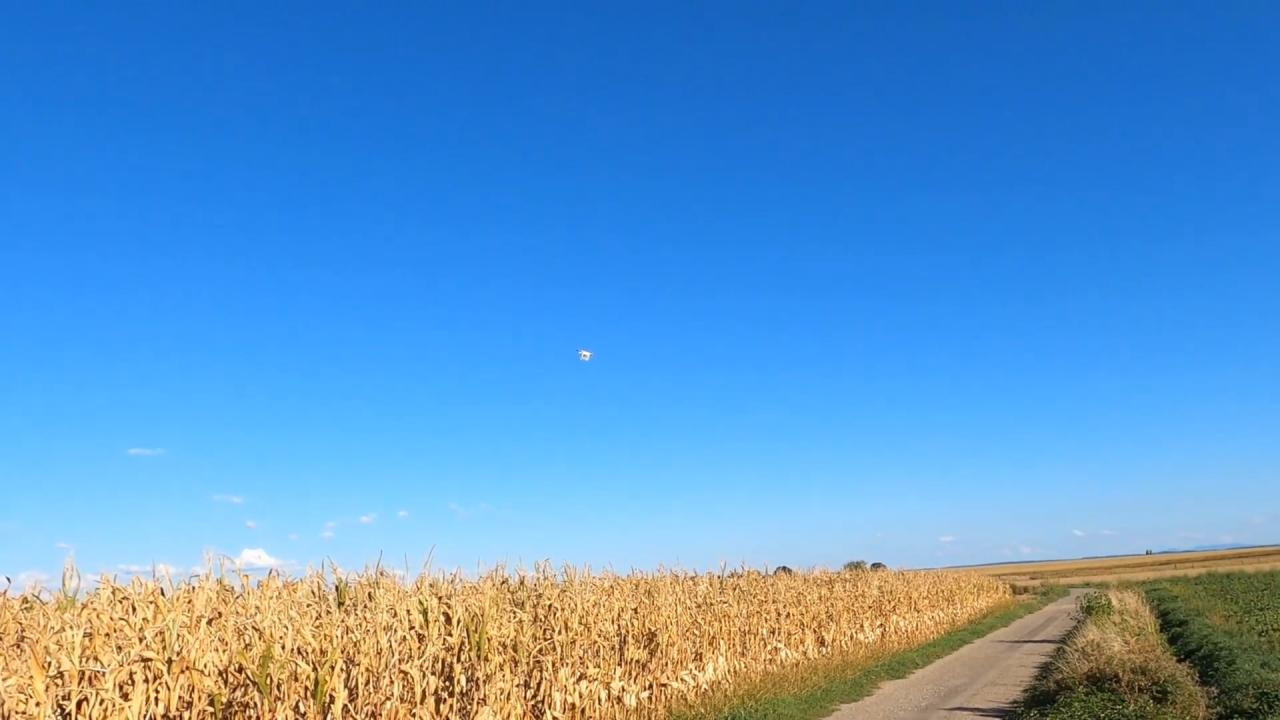Drone: (568, 338, 602, 371)
